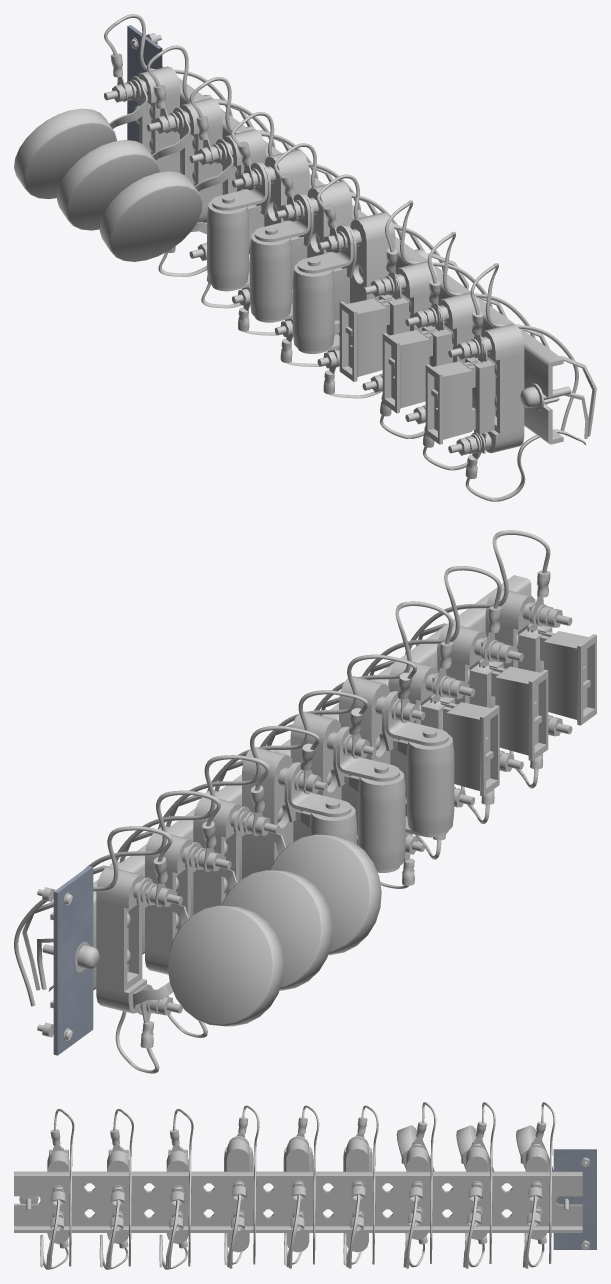
File: SM_Electric_parts_1.FBX
3 renders of one model, top to bottom at view 1: azimuth 30°, elevation 25°; view 2: azimuth 150°, elevation 25°; view 3: azimuth 270°, elevation 25°, orthographic. The views are drawn at different scales.
Visible parts, largest first — view 1: SM_Electric_parts_1; view 2: SM_Electric_parts_1; view 3: SM_Electric_parts_1.
Boxes of the visible parts, left/top/right/bottom form: SM_Electric_parts_1: left=14, top=14, right=596, bottom=501; SM_Electric_parts_1: left=14, top=530, right=596, bottom=1073; SM_Electric_parts_1: left=14, top=1102, right=596, bottom=1269.
Bounding box in the file's own units: 16.2 × 15.24 × 50.87.
